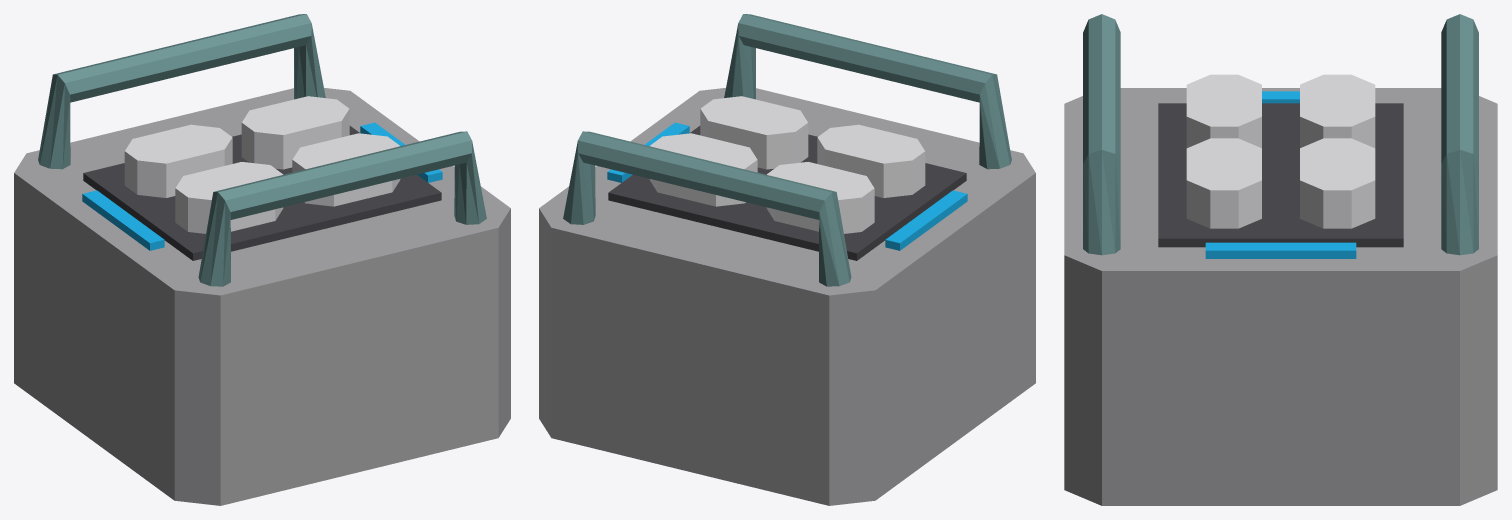
Rendered from vge_compact_gene_bank.obj.
3 views of the same model, side by side, from view 1: azimuth 30°, elevation 25°; view 2: azimuth 150°, elevation 25°; view 3: azimuth 270°, elevation 25° (orthographic). The views are drawn at different scales.
Parts seen in each view (by area): view 1: vge_compact_gene_bank_0, vge_compact_gene_bank_6, vge_compact_gene_bank_7, vge_compact_gene_bank_1, vge_compact_gene_bank_3, vge_compact_gene_bank_5, vge_compact_gene_bank_2, vge_compact_gene_bank_4, vge_compact_gene_bank_8, vge_compact_gene_bank_9; view 2: vge_compact_gene_bank_0, vge_compact_gene_bank_7, vge_compact_gene_bank_6, vge_compact_gene_bank_1, vge_compact_gene_bank_2, vge_compact_gene_bank_4, vge_compact_gene_bank_3, vge_compact_gene_bank_5, vge_compact_gene_bank_8, vge_compact_gene_bank_9; view 3: vge_compact_gene_bank_0, vge_compact_gene_bank_1, vge_compact_gene_bank_6, vge_compact_gene_bank_7, vge_compact_gene_bank_4, vge_compact_gene_bank_5, vge_compact_gene_bank_2, vge_compact_gene_bank_3, vge_compact_gene_bank_9, vge_compact_gene_bank_8.
Boxes of the visible parts, x1,y1,x2,y2 form: vge_compact_gene_bank_0: (14, 88, 510, 505); vge_compact_gene_bank_6: (198, 131, 486, 286); vge_compact_gene_bank_7: (38, 14, 325, 169); vge_compact_gene_bank_1: (83, 126, 441, 260); vge_compact_gene_bank_3: (124, 124, 232, 197); vge_compact_gene_bank_5: (241, 96, 349, 169); vge_compact_gene_bank_2: (175, 162, 283, 233); vge_compact_gene_bank_4: (292, 133, 400, 206); vge_compact_gene_bank_8: (82, 190, 164, 250); vge_compact_gene_bank_9: (360, 122, 442, 182); vge_compact_gene_bank_0: (539, 88, 1035, 505); vge_compact_gene_bank_7: (563, 131, 851, 286); vge_compact_gene_bank_6: (724, 14, 1011, 169); vge_compact_gene_bank_1: (608, 126, 966, 260); vge_compact_gene_bank_2: (817, 124, 925, 197); vge_compact_gene_bank_4: (700, 96, 808, 169); vge_compact_gene_bank_3: (766, 162, 874, 233); vge_compact_gene_bank_5: (649, 133, 757, 206); vge_compact_gene_bank_8: (885, 190, 967, 250); vge_compact_gene_bank_9: (607, 122, 689, 182); vge_compact_gene_bank_0: (1064, 88, 1497, 505); vge_compact_gene_bank_1: (1158, 103, 1403, 247); vge_compact_gene_bank_6: (1083, 14, 1120, 255); vge_compact_gene_bank_7: (1441, 14, 1478, 255); vge_compact_gene_bank_4: (1186, 138, 1261, 228); vge_compact_gene_bank_5: (1300, 138, 1375, 228); vge_compact_gene_bank_2: (1186, 74, 1261, 147); vge_compact_gene_bank_3: (1300, 74, 1375, 147); vge_compact_gene_bank_9: (1205, 242, 1356, 258); vge_compact_gene_bank_8: (1262, 91, 1299, 103).
Size of the model in its own units: 0.92 by 0.7785 by 0.92.
